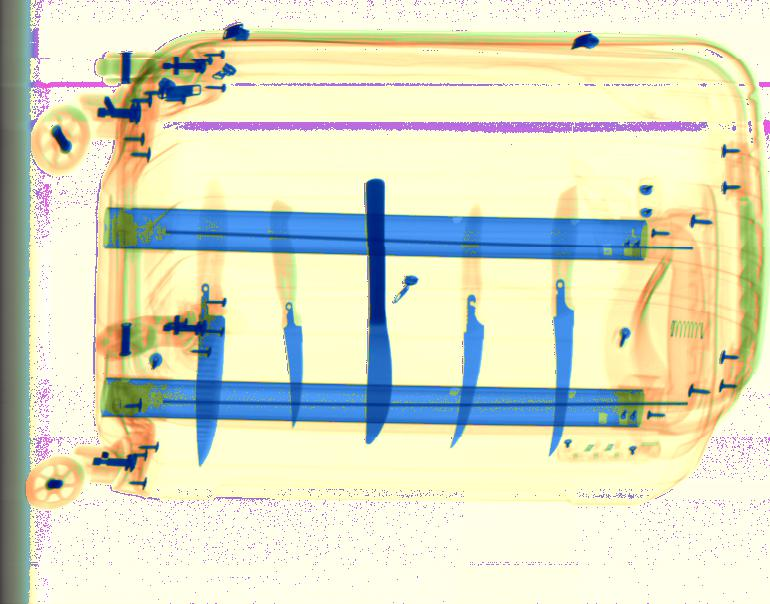Knife: (194, 182, 231, 467), (545, 186, 583, 456), (448, 208, 485, 451), (362, 179, 393, 444), (269, 199, 305, 427)
